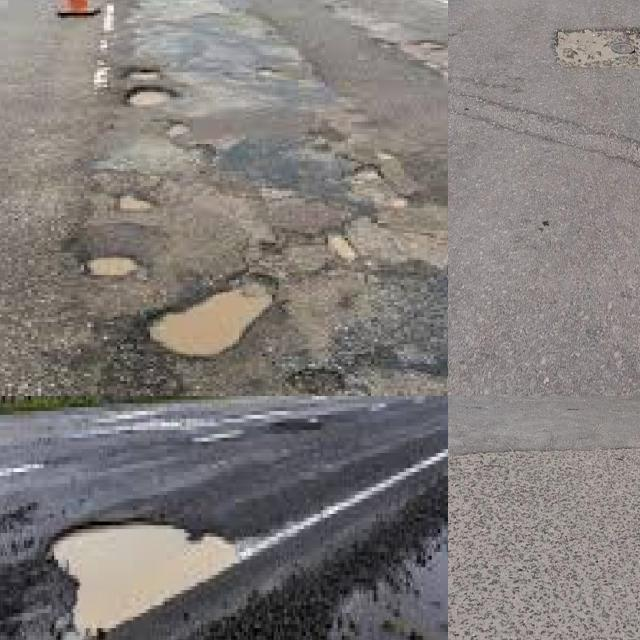Pothole: (48, 522, 240, 640), (150, 285, 275, 361), (553, 28, 640, 71), (124, 72, 173, 109)
